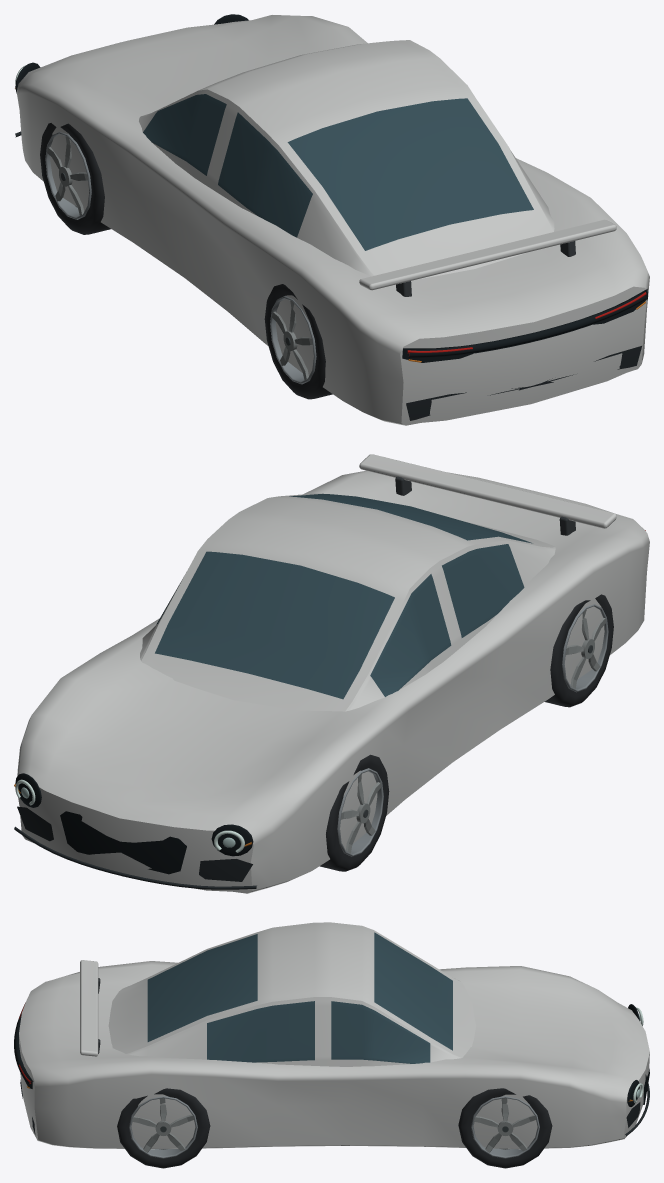
Rendered from vesper-gt-lod.glb.
The picture shows the model from 3 angles, top to bottom: view 1: azimuth 30°, elevation 25°; view 2: azimuth 150°, elevation 25°; view 3: azimuth 270°, elevation 25°; orthographic projection. The views are drawn at different scales.
Parts seen in each view (by area): view 1: paint, glass, wheelSurface (×2), trim; view 2: paint, glass, wheelSurface (×2), trim, head; view 3: paint, glass, wheelSurface (×2), trim.
Boxes of the visible parts, bbox=[...] form: paint: bbox=[16, 15, 649, 425]; glass: bbox=[143, 94, 533, 250]; wheelSurface (×2): bbox=[40, 123, 332, 399]; trim: bbox=[15, 14, 647, 420]; paint: bbox=[17, 454, 649, 893]; glass: bbox=[155, 493, 532, 699]; wheelSurface (×2): bbox=[320, 594, 613, 871]; trim: bbox=[14, 476, 575, 889]; head: bbox=[15, 779, 244, 852]; paint: bbox=[19, 922, 649, 1149]; glass: bbox=[147, 932, 452, 1063]; wheelSurface (×2): bbox=[117, 1088, 552, 1168]; trim: bbox=[14, 978, 649, 1136].
Size of the model in its own units: 1.91 by 1.3 by 4.56.
